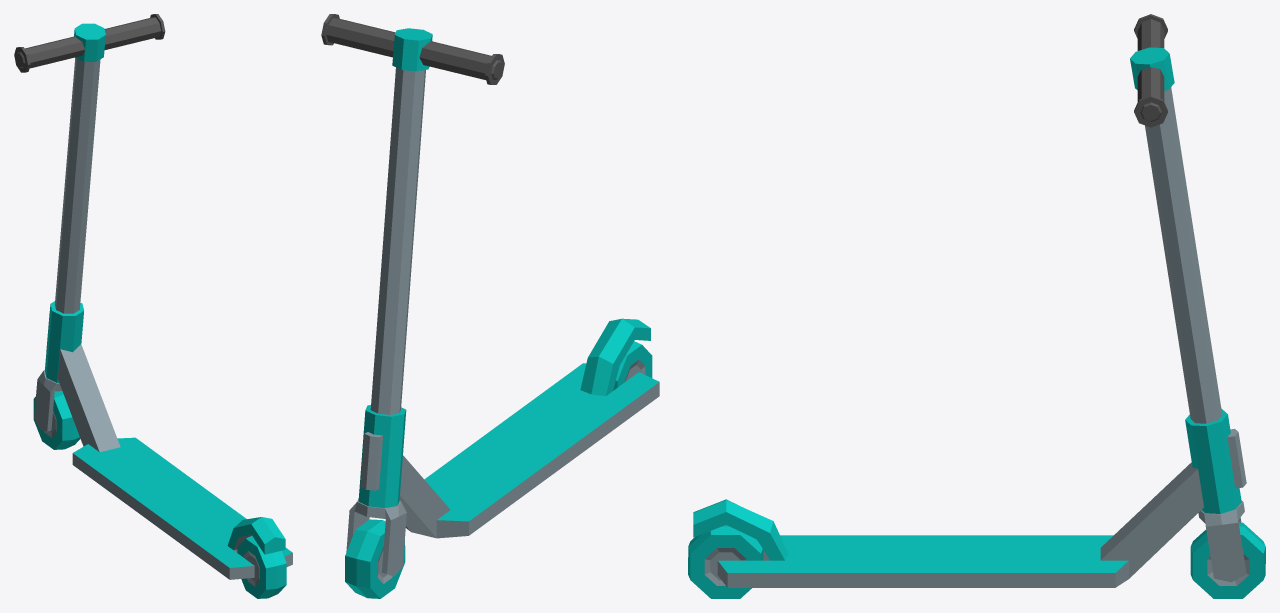
File: scooter.glb
The picture shows the model from 3 angles, left to right: view 1: azimuth 30°, elevation 25°; view 2: azimuth 150°, elevation 25°; view 3: azimuth 270°, elevation 25°; orthographic projection. The views are drawn at different scales.
Visible parts, largest first — view 1: Scooter_Circle.002; view 2: Scooter_Circle.002; view 3: Scooter_Circle.002.
Boxes of the visible parts, box(x1,y1,x2,y2) form: Scooter_Circle.002: box(14, 14, 292, 598); Scooter_Circle.002: box(321, 14, 659, 598); Scooter_Circle.002: box(688, 14, 1265, 598).
Bounding box in the file's own units: 4.41 × 13.2 × 12.76.
